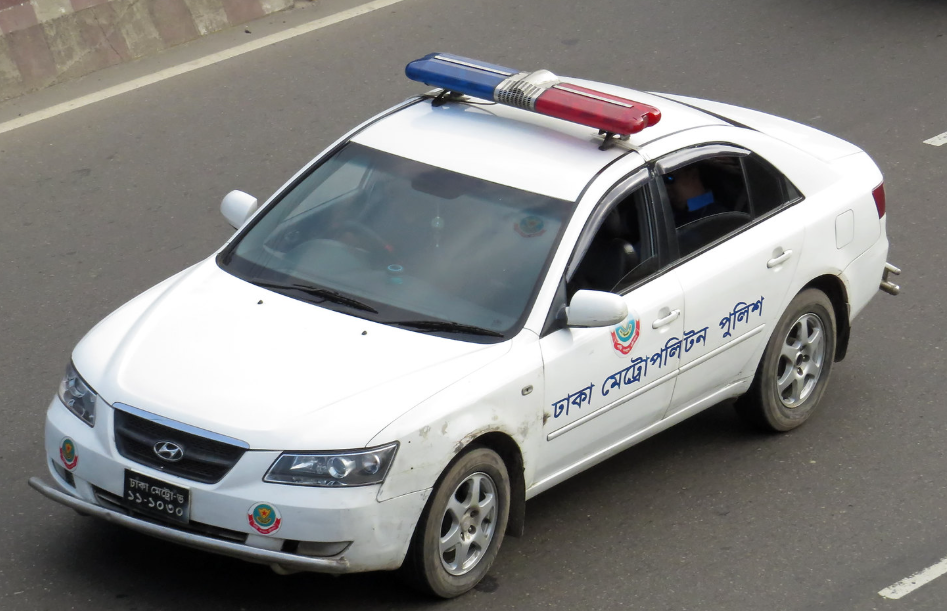Police cars: (24, 30, 899, 610)
